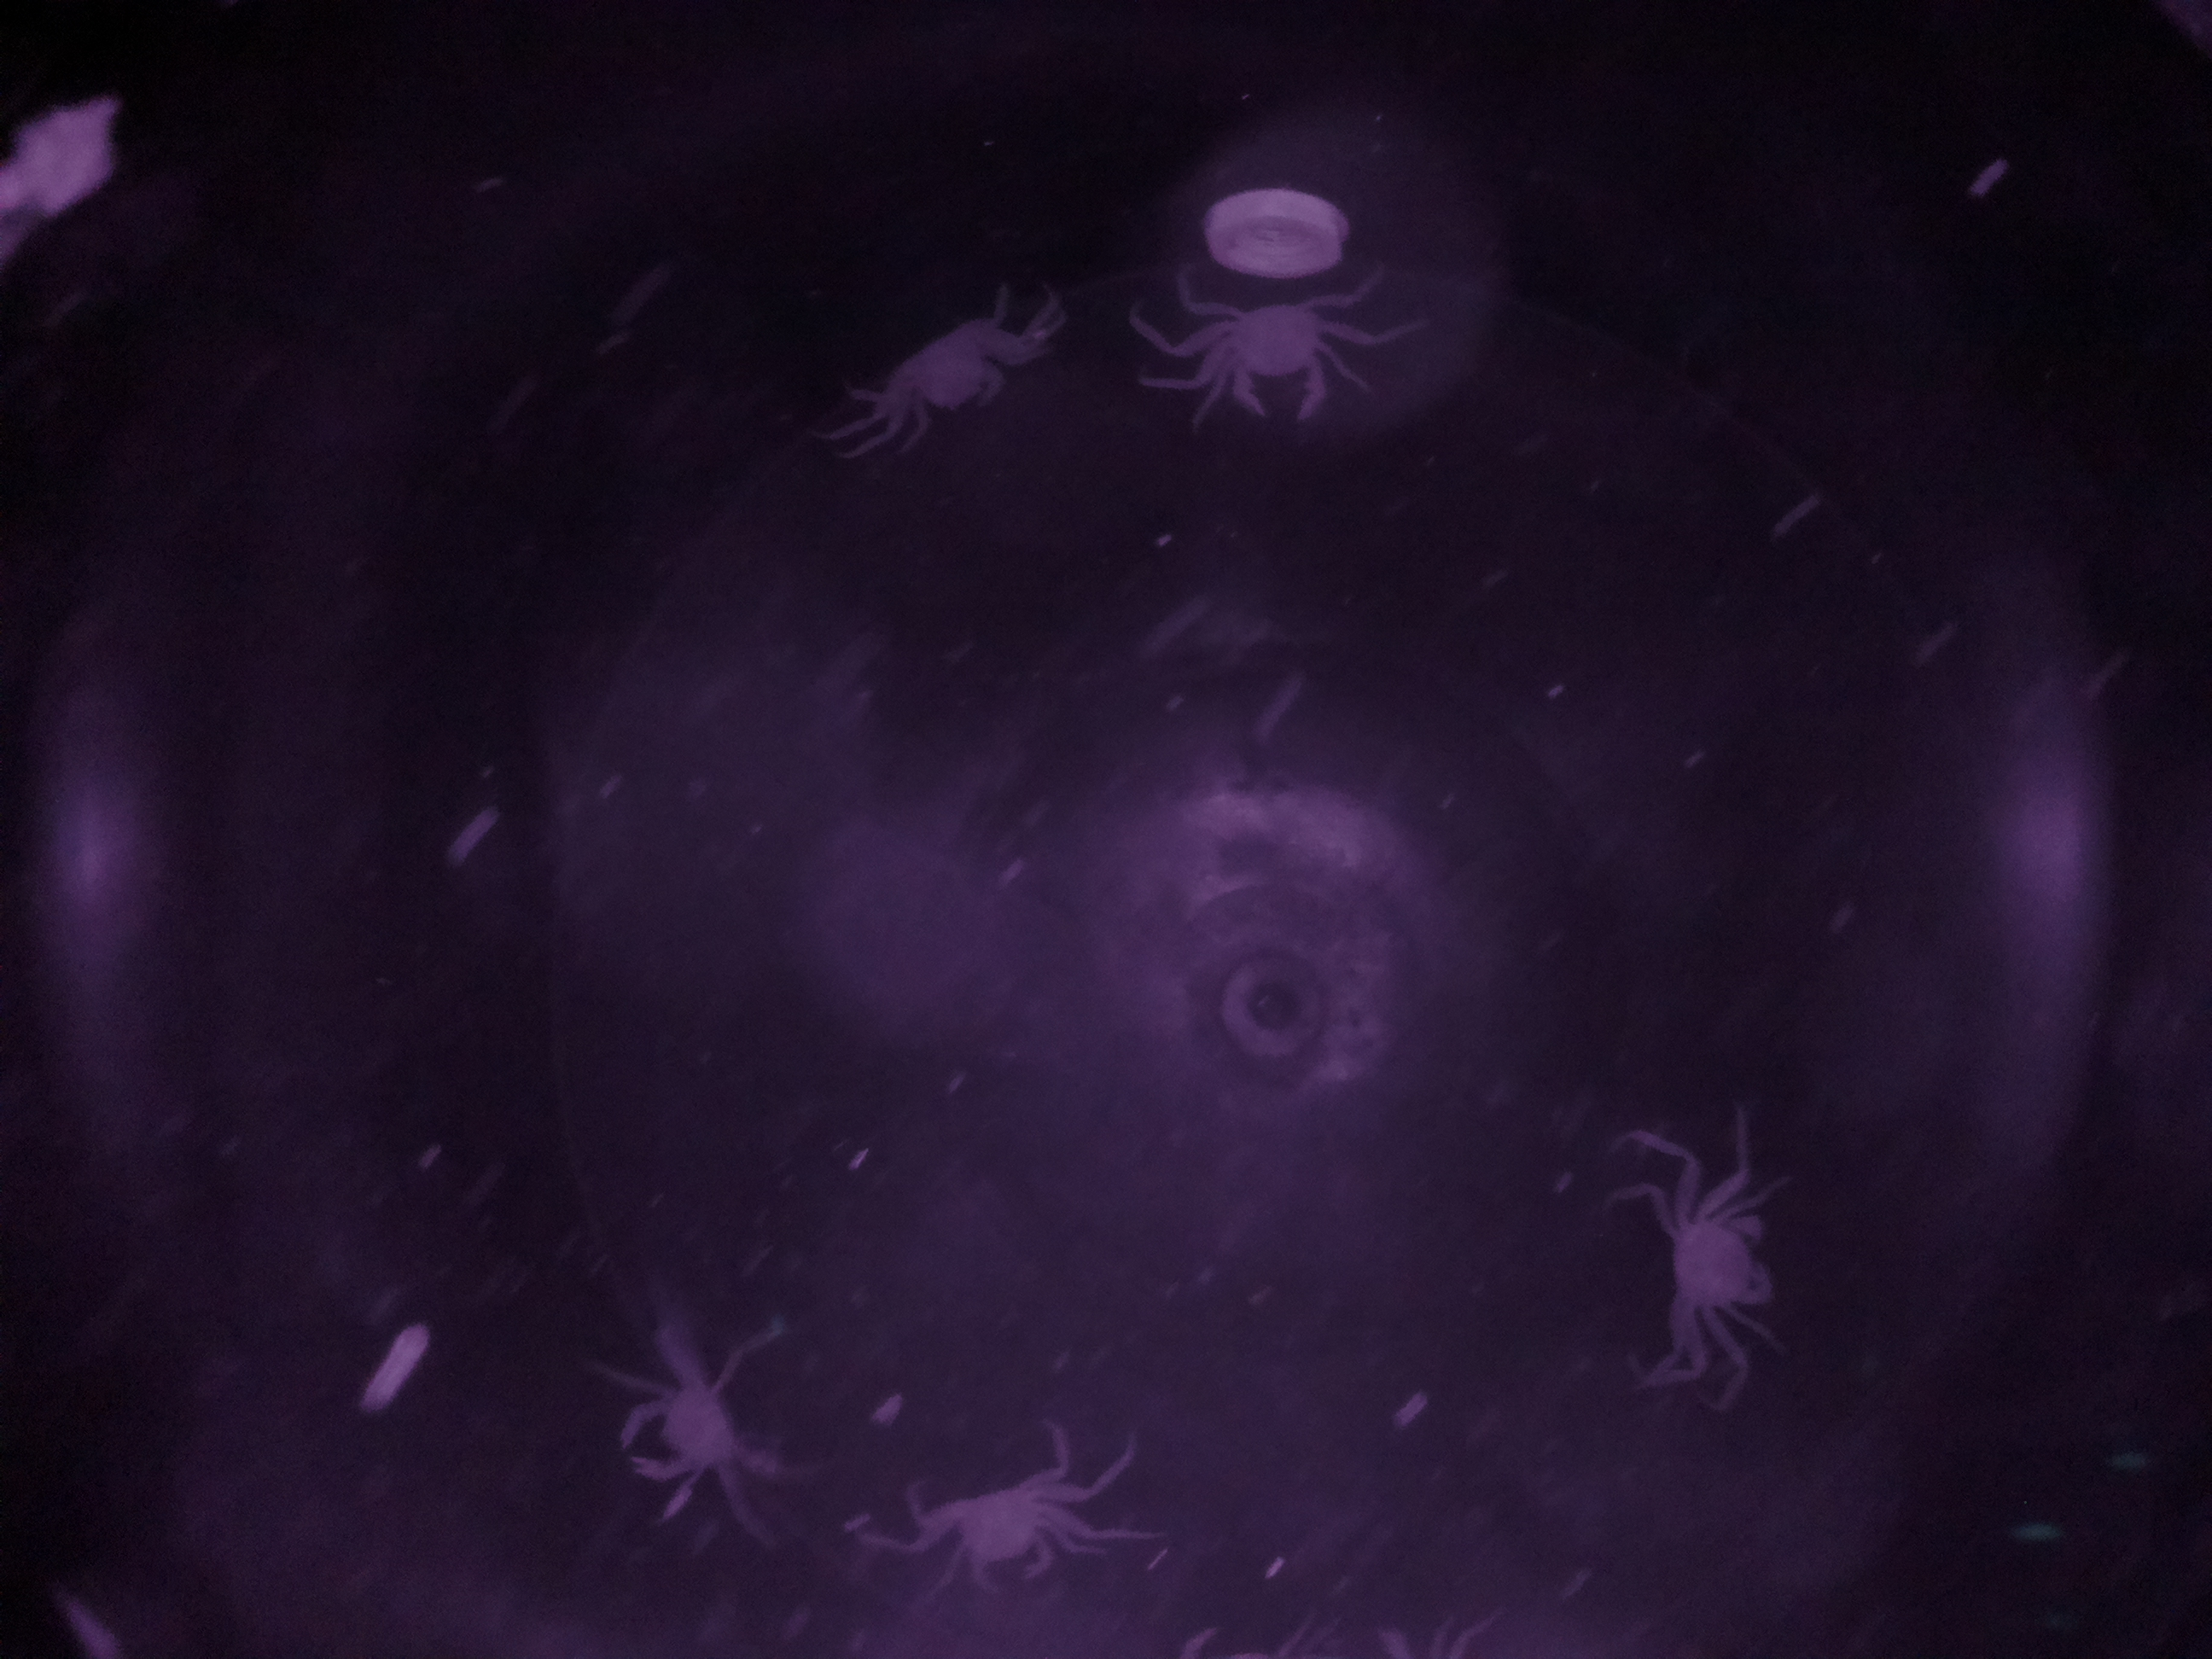Crab: (824, 281, 1064, 460), (883, 1439, 1106, 1593), (1146, 281, 1346, 434), (1648, 1154, 1782, 1371)
